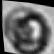correct: (0, 2, 54, 54)
